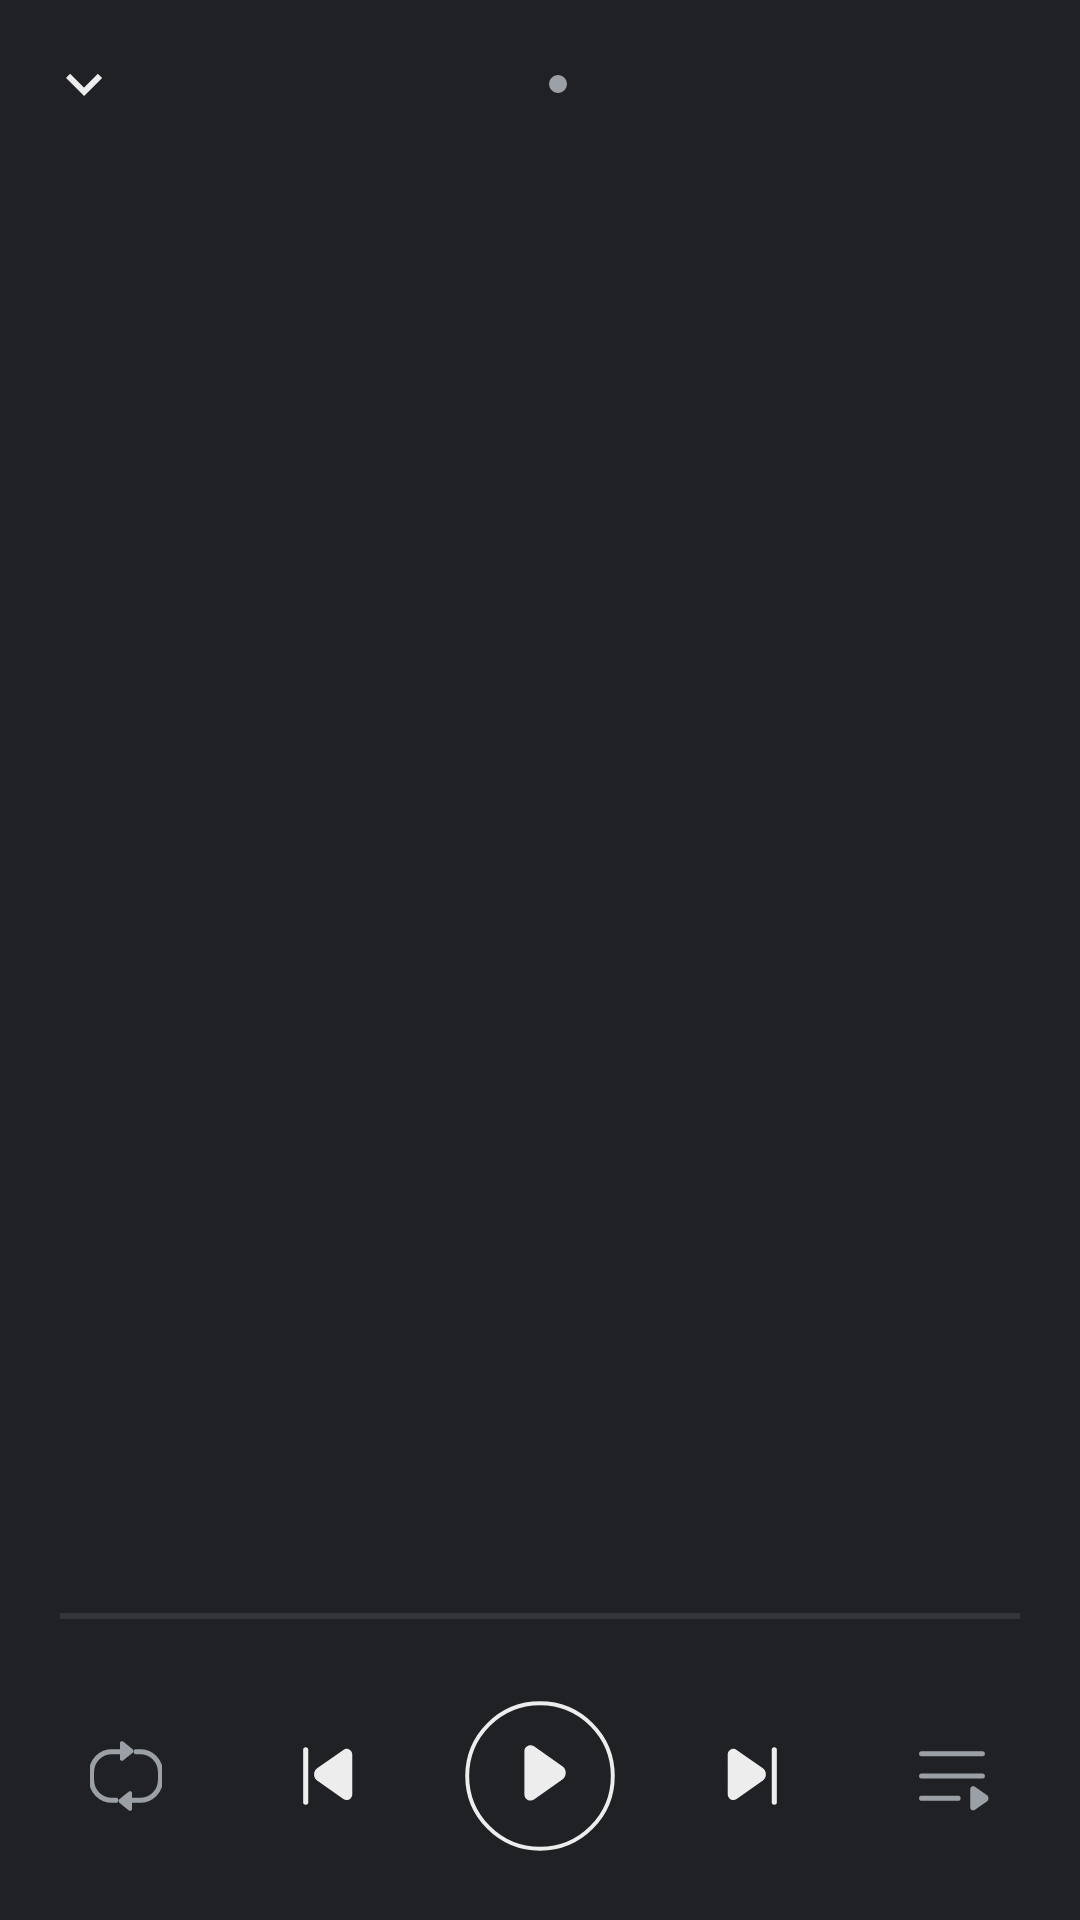

Icons on this 1080w x 1920h Android screen, each with its box as detection(x1, y1, x2, y2):
上一首: detection(303, 1747, 353, 1805)
下一首: detection(727, 1747, 777, 1805)
列表循环: detection(90, 1741, 162, 1811)
播放: detection(465, 1701, 615, 1851)
播放队列: detection(919, 1751, 989, 1811)
返回: detection(66, 74, 102, 96)
